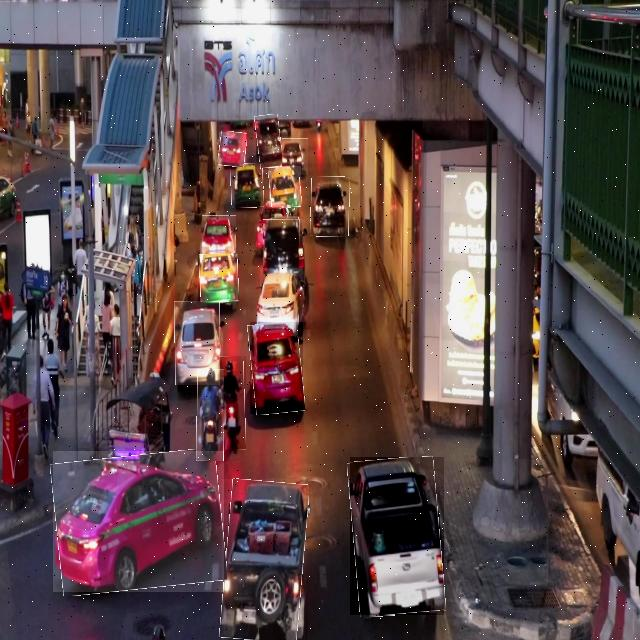Car: (53, 451, 224, 592), (250, 322, 303, 414), (175, 301, 220, 385), (260, 268, 298, 336), (311, 176, 349, 237), (264, 219, 302, 274), (200, 254, 238, 302), (202, 215, 236, 260), (231, 164, 264, 208), (255, 115, 282, 168), (269, 166, 301, 207), (282, 138, 308, 175), (219, 132, 246, 166)
Motorcycle: (197, 369, 224, 461), (220, 356, 246, 450)
Truck: (350, 458, 444, 616), (222, 479, 306, 640)
